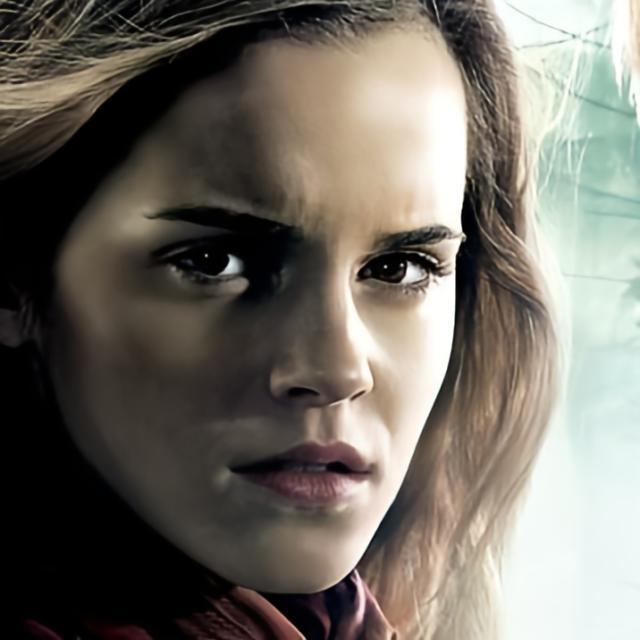anger: (52, 52, 470, 566)
